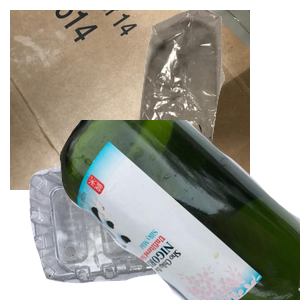cardboard: (10, 10, 250, 190)
glass: (60, 120, 300, 300)
plastic: (27, 152, 247, 300)
trash: (114, 10, 300, 190)
